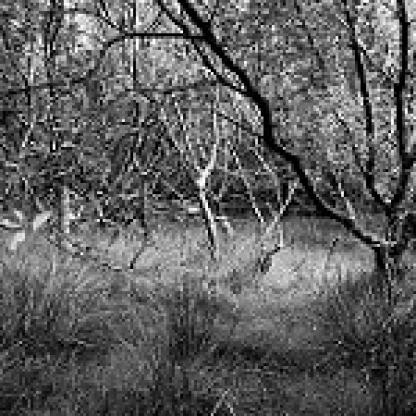tree: (153, 0, 413, 286)
